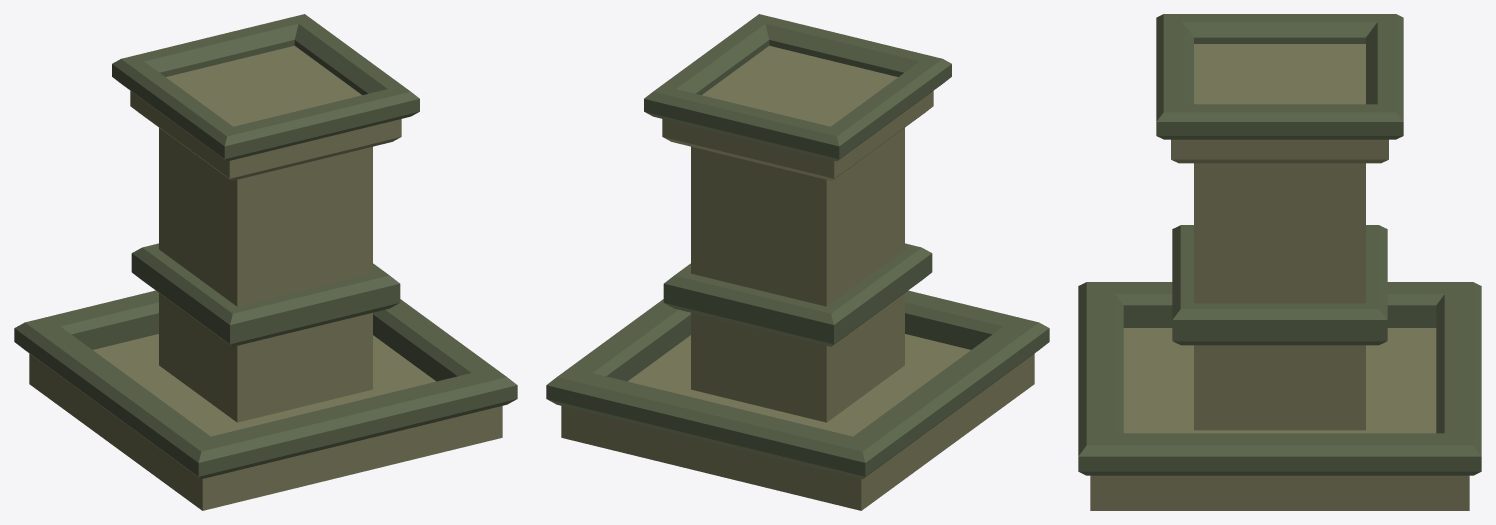
File: altar01.fbx
3 renders of one model, left to right at view 1: azimuth 30°, elevation 25°; view 2: azimuth 150°, elevation 25°; view 3: azimuth 270°, elevation 25°, orthographic. The views are drawn at different scales.
Visible parts, largest first — view 1: altar01; view 2: altar01; view 3: altar01.
Boxes of the visible parts, bbox=[...] form: altar01: bbox=[14, 14, 517, 510]; altar01: bbox=[546, 14, 1049, 510]; altar01: bbox=[1078, 14, 1481, 510].
Bounding box in the file's own units: 1.41 × 1.41 × 1.41.
